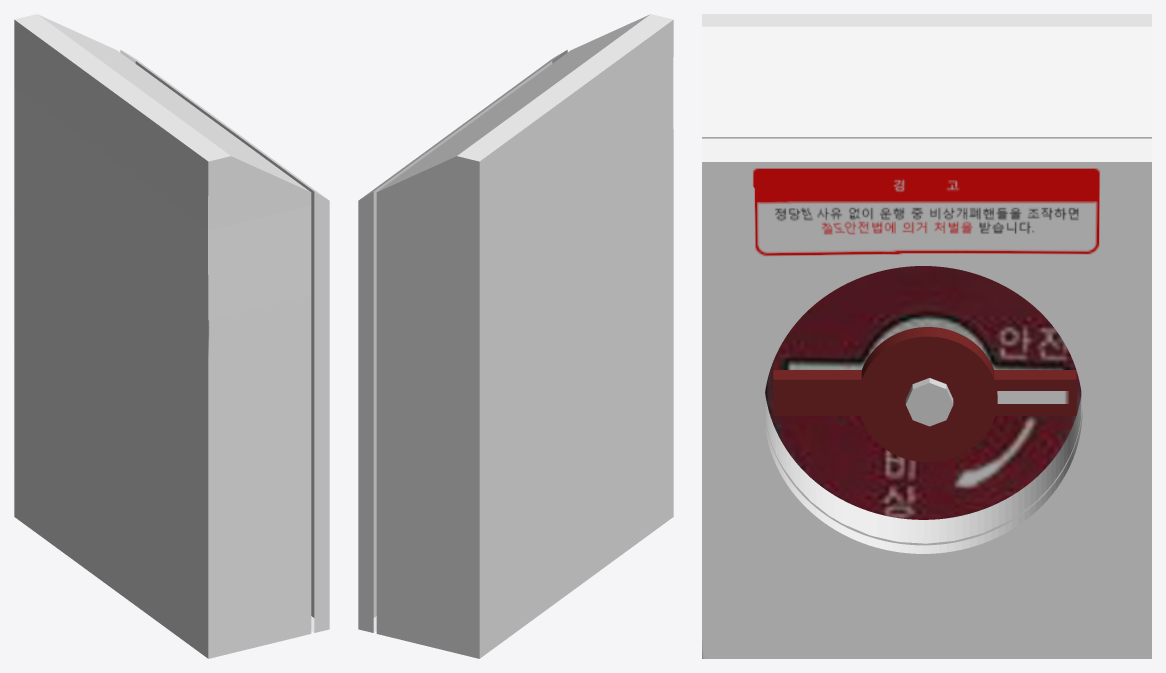
3 renders of one model, left to right at view 1: azimuth 30°, elevation 25°; view 2: azimuth 150°, elevation 25°; view 3: azimuth 270°, elevation 25°, orthographic. The views are drawn at different scales.
Visible parts, largest first — view 1: 케이스, 케이스덮개.001; view 2: 케이스, 케이스덮개.001; view 3: 케이스덮개.001, 케이스, Cube, Cylinder.
Boxes of the visible parts, left/top/right/bottom form: 케이스: left=14, top=14, right=311, bottom=658; 케이스덮개.001: left=120, top=50, right=329, bottom=632; 케이스: left=376, top=14, right=673, bottom=658; 케이스덮개.001: left=358, top=50, right=567, bottom=632; 케이스덮개.001: left=702, top=138, right=1151, bottom=658; 케이스: left=702, top=14, right=1151, bottom=545; Cube: left=773, top=327, right=1076, bottom=462; Cylinder: left=905, top=378, right=953, bottom=426.
Bounding box in the file's own units: 56.25 × 220 × 156.
Materials: 3 (2 with a texture image).
